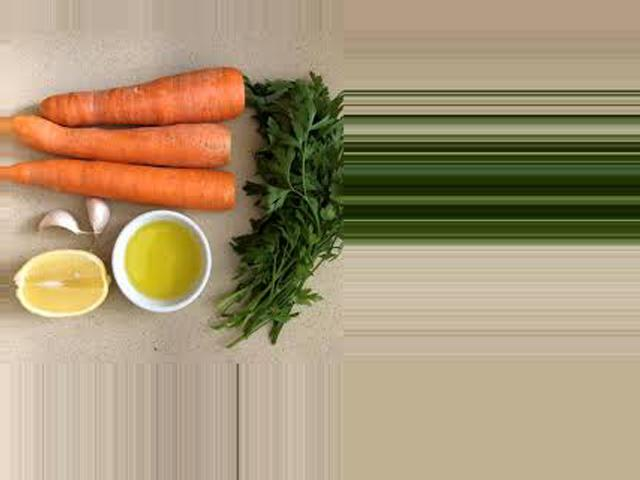carrot: (9, 151, 245, 211)
